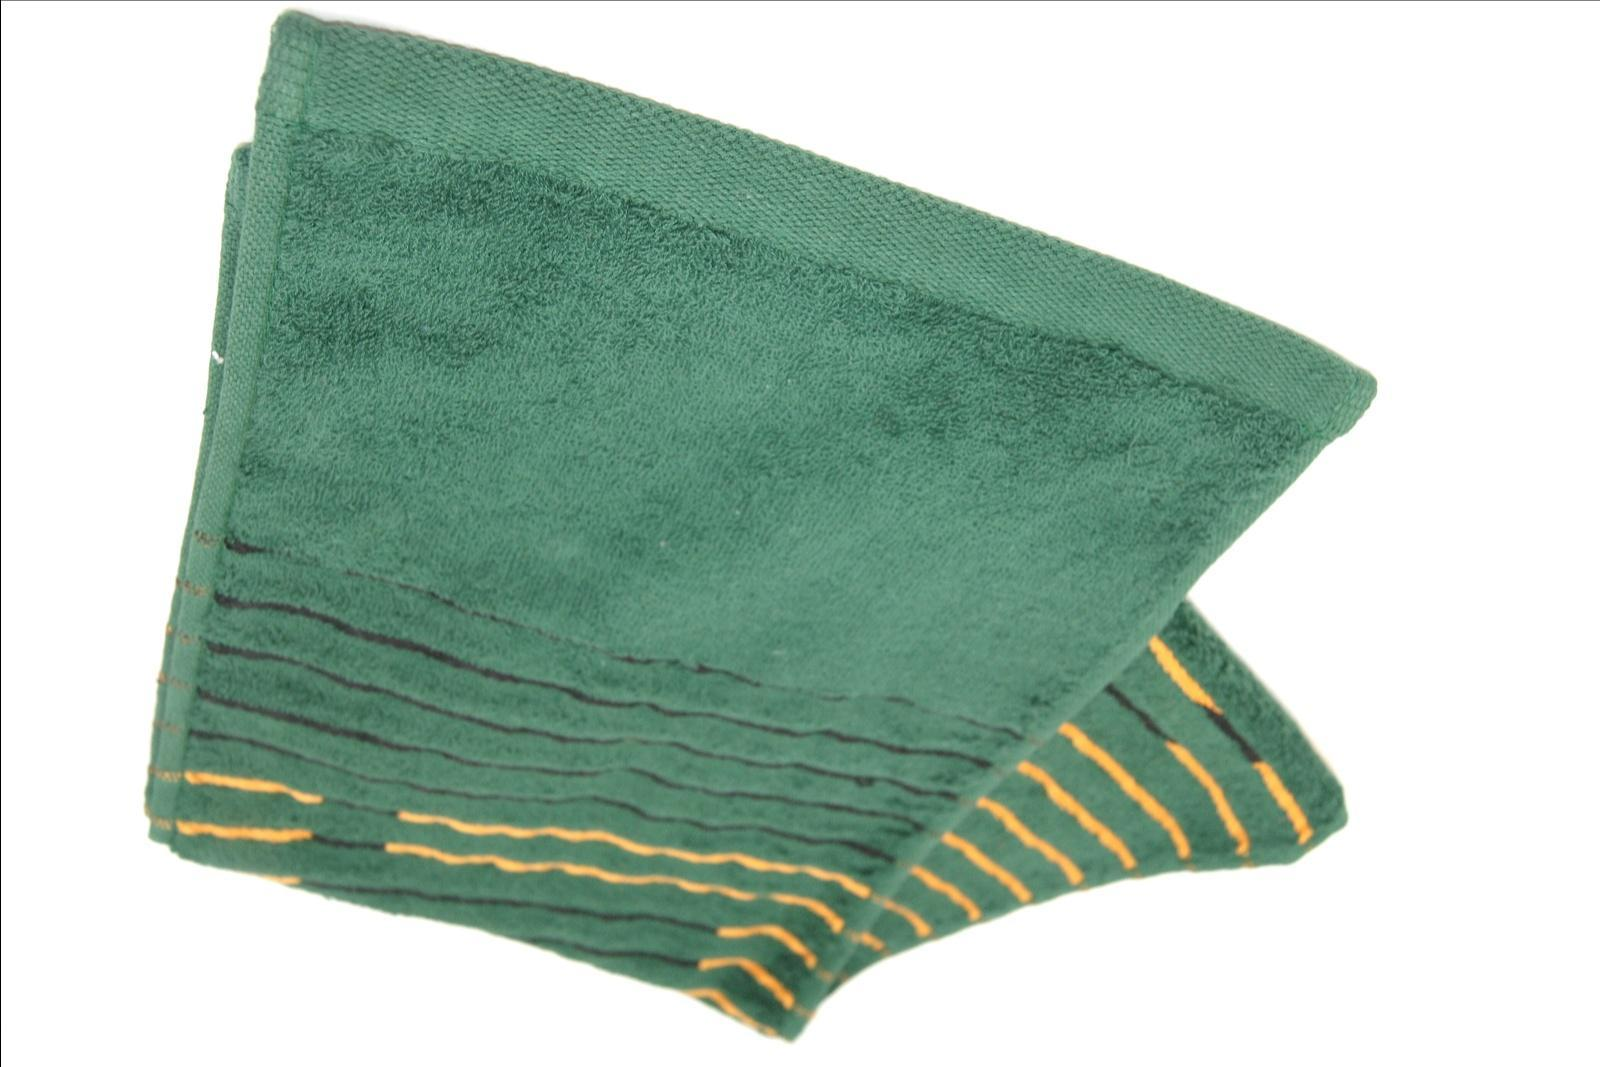towel: (140, 0, 1388, 1057)
